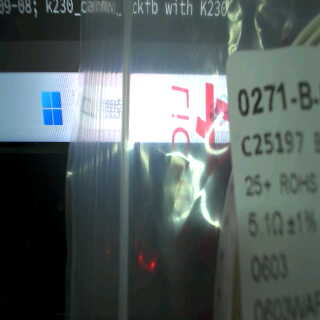5.1R: (244, 207, 287, 239)
